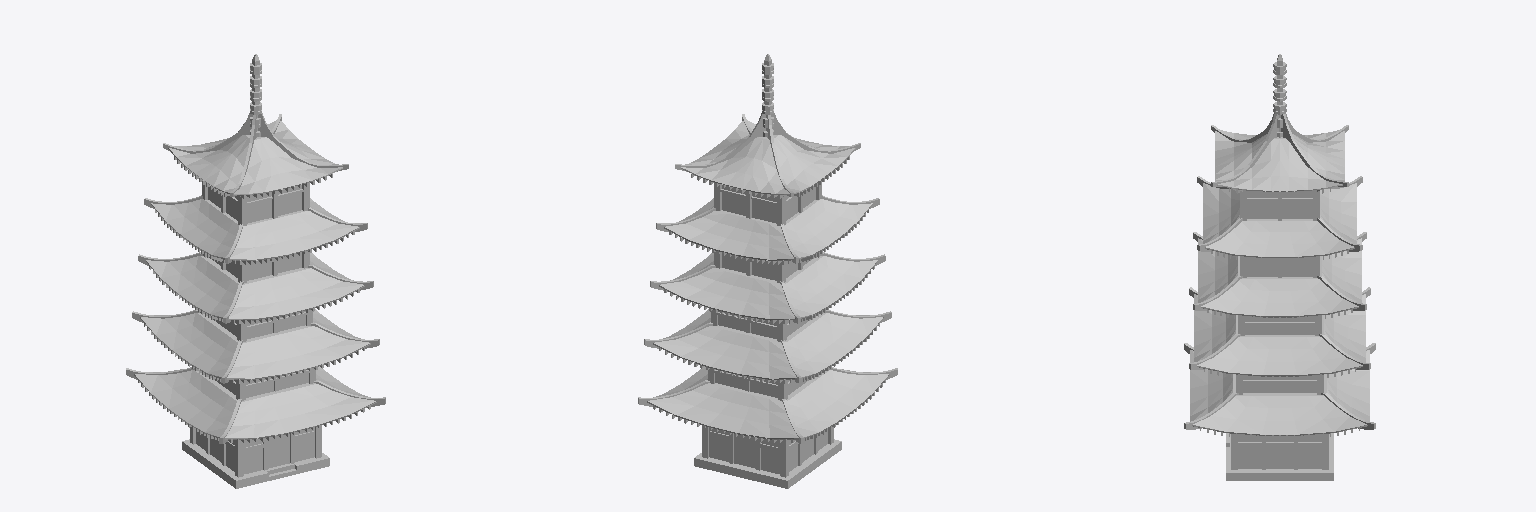
File: pagoda.obj
3 views of the same model, side by side, from view 1: azimuth 30°, elevation 25°; view 2: azimuth 150°, elevation 25°; view 3: azimuth 270°, elevation 25° (orthographic).
Parts seen in each view (by area): view 1: Roof_Plane.004, top_roof_Plane.001, s5_block_Cube.067, s1_block_Cube, supports_Cube.084, Cube.003_Cube.023, struts_2_Cube.078, top_struts_Cube.020, s3_block_Cube.012, s2_block_Cube.007, Cylinder; view 2: Roof_Plane.004, top_roof_Plane.001, s5_block_Cube.067, s1_block_Cube, supports_Cube.084, Cube.003_Cube.023, struts_2_Cube.078, top_struts_Cube.020, s3_block_Cube.012, s2_block_Cube.007, Cylinder; view 3: Roof_Plane.004, top_roof_Plane.001, s5_block_Cube.067, s1_block_Cube, supports_Cube.084, Cube.003_Cube.023, top_struts_Cube.020, s3_block_Cube.012, s2_block_Cube.007, Cylinder, struts_2_Cube.078.
Part boxes in pixels (left/top/right/bottom): Roof_Plane.004: left=134, top=198, right=376, bottom=439; top_roof_Plane.001: left=168, top=120, right=342, bottom=194; s5_block_Cube.067: left=202, top=181, right=309, bottom=282; s1_block_Cube: left=190, top=425, right=321, bottom=477; supports_Cube.084: left=126, top=195, right=385, bottom=443; Cube.003_Cube.023: left=182, top=439, right=329, bottom=488; struts_2_Cube.078: left=138, top=210, right=370, bottom=442; top_struts_Cube.020: left=163, top=113, right=348, bottom=196; s3_block_Cube.012: left=200, top=310, right=312, bottom=341; s2_block_Cube.007: left=215, top=368, right=315, bottom=400; Cylinder: left=250, top=63, right=261, bottom=137; Roof_Plane.004: left=647, top=198, right=889, bottom=439; top_roof_Plane.001: left=681, top=120, right=855, bottom=194; s5_block_Cube.067: left=714, top=181, right=821, bottom=282; s1_block_Cube: left=702, top=425, right=833, bottom=477; supports_Cube.084: left=638, top=195, right=897, bottom=443; Cube.003_Cube.023: left=694, top=439, right=841, bottom=488; struts_2_Cube.078: left=653, top=210, right=885, bottom=442; top_struts_Cube.020: left=675, top=113, right=860, bottom=196; s3_block_Cube.012: left=711, top=310, right=823, bottom=341; s2_block_Cube.007: left=708, top=368, right=808, bottom=400; Cylinder: left=762, top=63, right=773, bottom=137; Roof_Plane.004: left=1190, top=183, right=1369, bottom=435; top_roof_Plane.001: left=1215, top=130, right=1344, bottom=191; s5_block_Cube.067: left=1240, top=190, right=1319, bottom=277; s1_block_Cube: left=1231, top=434, right=1328, bottom=469; supports_Cube.084: left=1184, top=176, right=1375, bottom=429; Cube.003_Cube.023: left=1226, top=433, right=1333, bottom=480; top_struts_Cube.020: left=1211, top=113, right=1348, bottom=191; s3_block_Cube.012: left=1238, top=315, right=1321, bottom=335; s2_block_Cube.007: left=1236, top=375, right=1323, bottom=394; Cylinder: left=1273, top=62, right=1286, bottom=137; struts_2_Cube.078: left=1200, top=250, right=1359, bottom=438.
Size of the model in its own units: 4.26 by 9.86 by 4.26.